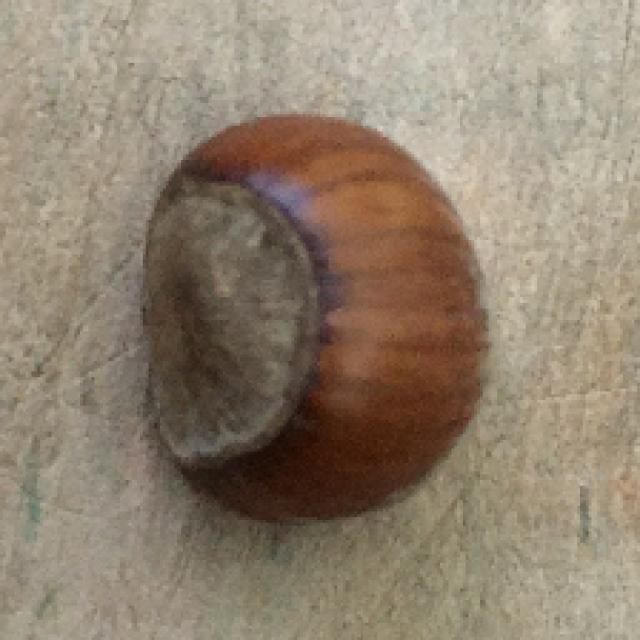QualityHazelnut: (146, 111, 496, 529)
